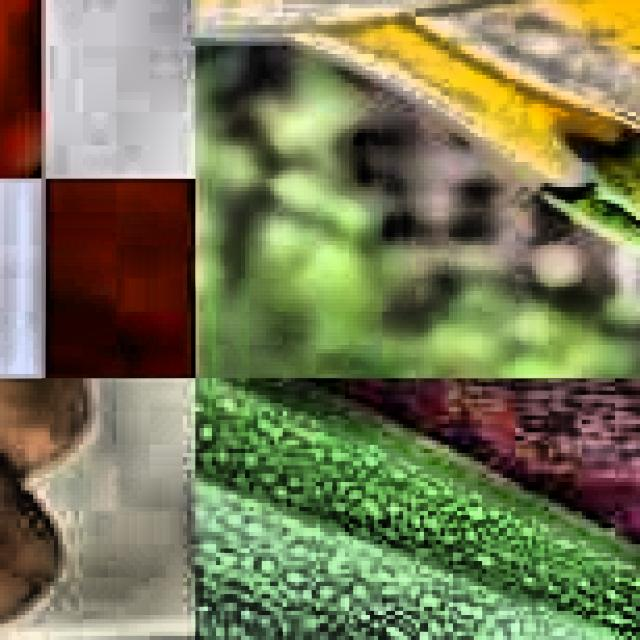zucchini: (195, 378, 640, 640)
